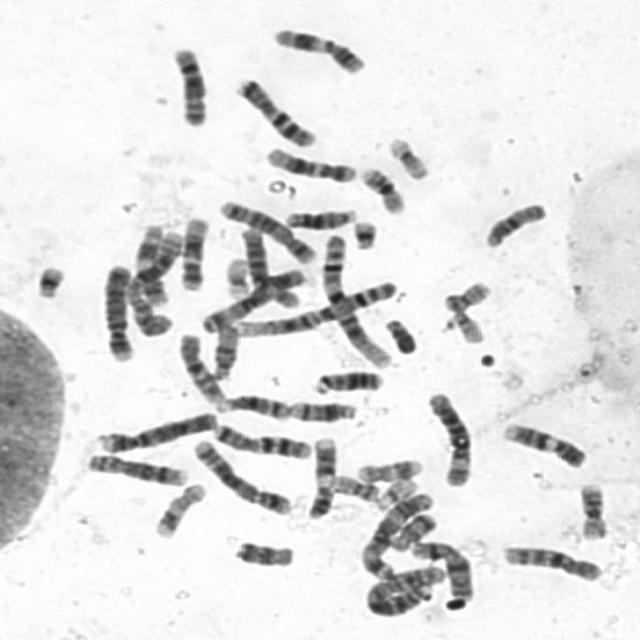A1: (313, 226, 394, 368), (222, 274, 398, 338)
A2: (120, 223, 184, 339), (358, 556, 449, 618)
A3: (195, 260, 307, 334), (353, 485, 437, 583)
B4: (90, 404, 220, 454), (96, 257, 137, 363)
B5: (186, 432, 294, 516), (211, 192, 319, 264)
C10: (494, 538, 605, 583), (170, 324, 228, 404)
C11: (264, 20, 369, 75), (126, 219, 170, 306)
C12: (258, 139, 358, 184), (173, 210, 211, 292)
C6: (234, 219, 304, 311), (419, 384, 476, 488)
C7: (227, 71, 320, 149), (205, 415, 314, 459)
C8: (77, 446, 190, 488), (162, 39, 211, 127)
C9: (495, 414, 590, 470), (300, 430, 340, 520)
D13: (306, 362, 386, 395), (278, 200, 359, 230)
D14: (210, 387, 291, 421), (283, 393, 359, 423)
D15: (476, 195, 550, 249), (204, 318, 241, 382)
E16: (353, 159, 408, 215), (570, 476, 611, 542)
E17: (147, 476, 209, 540), (349, 451, 425, 484)
E18: (382, 506, 439, 552), (226, 533, 297, 569)
F19: (380, 129, 432, 181), (217, 249, 253, 300)
F20: (436, 274, 494, 312), (324, 467, 382, 503)
G21: (28, 256, 68, 300), (344, 213, 380, 251)
G22: (365, 470, 421, 510), (442, 304, 487, 346)
X: (404, 533, 476, 609)
Y: (377, 310, 420, 355)
